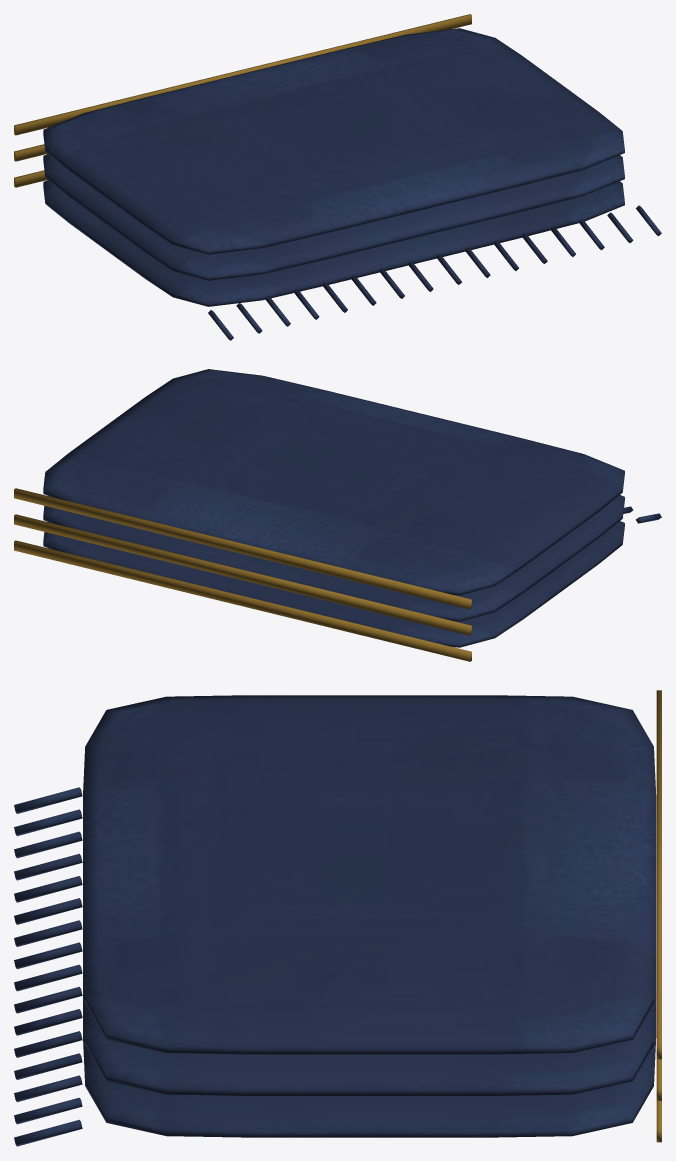
Rendered from blanket_indigo.glb.
3 views of the same model, one above another, from view 1: azimuth 30°, elevation 25°; view 2: azimuth 150°, elevation 25°; view 3: azimuth 270°, elevation 25° (orthographic). The views are drawn at different scales.
Visible parts, largest first — view 1: blanket_indigo_felt_indigo, blanket_indigo_felt_mustard; view 2: blanket_indigo_felt_indigo, blanket_indigo_felt_mustard; view 3: blanket_indigo_felt_indigo, blanket_indigo_felt_mustard.
Boxes of the visible parts, left/top/right/bottom form: blanket_indigo_felt_indigo: left=43, top=28, right=661, bottom=340; blanket_indigo_felt_mustard: left=14, top=14, right=471, bottom=187; blanket_indigo_felt_indigo: left=43, top=369, right=661, bottom=647; blanket_indigo_felt_mustard: left=14, top=488, right=471, bottom=661; blanket_indigo_felt_indigo: left=14, top=695, right=656, bottom=1146; blanket_indigo_felt_mustard: left=656, top=690, right=661, bottom=1142.
Size of the model in its own units: 1.28 by 0.2194 by 0.9883.
2 materials, 2 textured.
